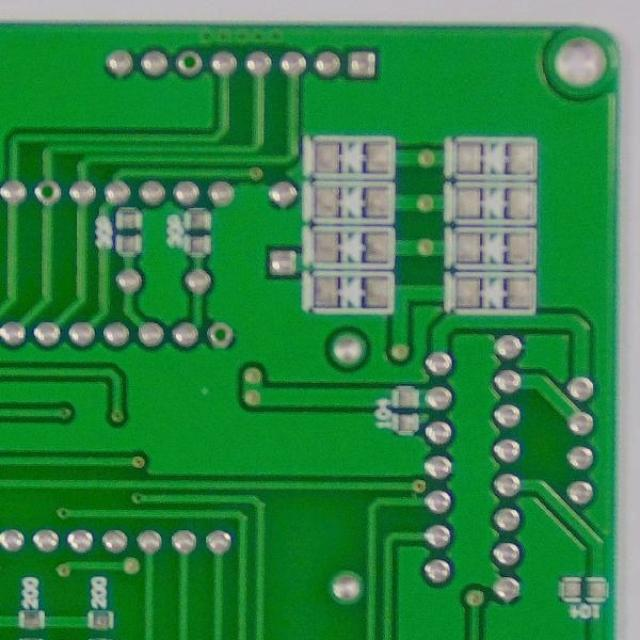missing_hole: (208, 320, 237, 354), (33, 178, 65, 207), (176, 49, 207, 77)
